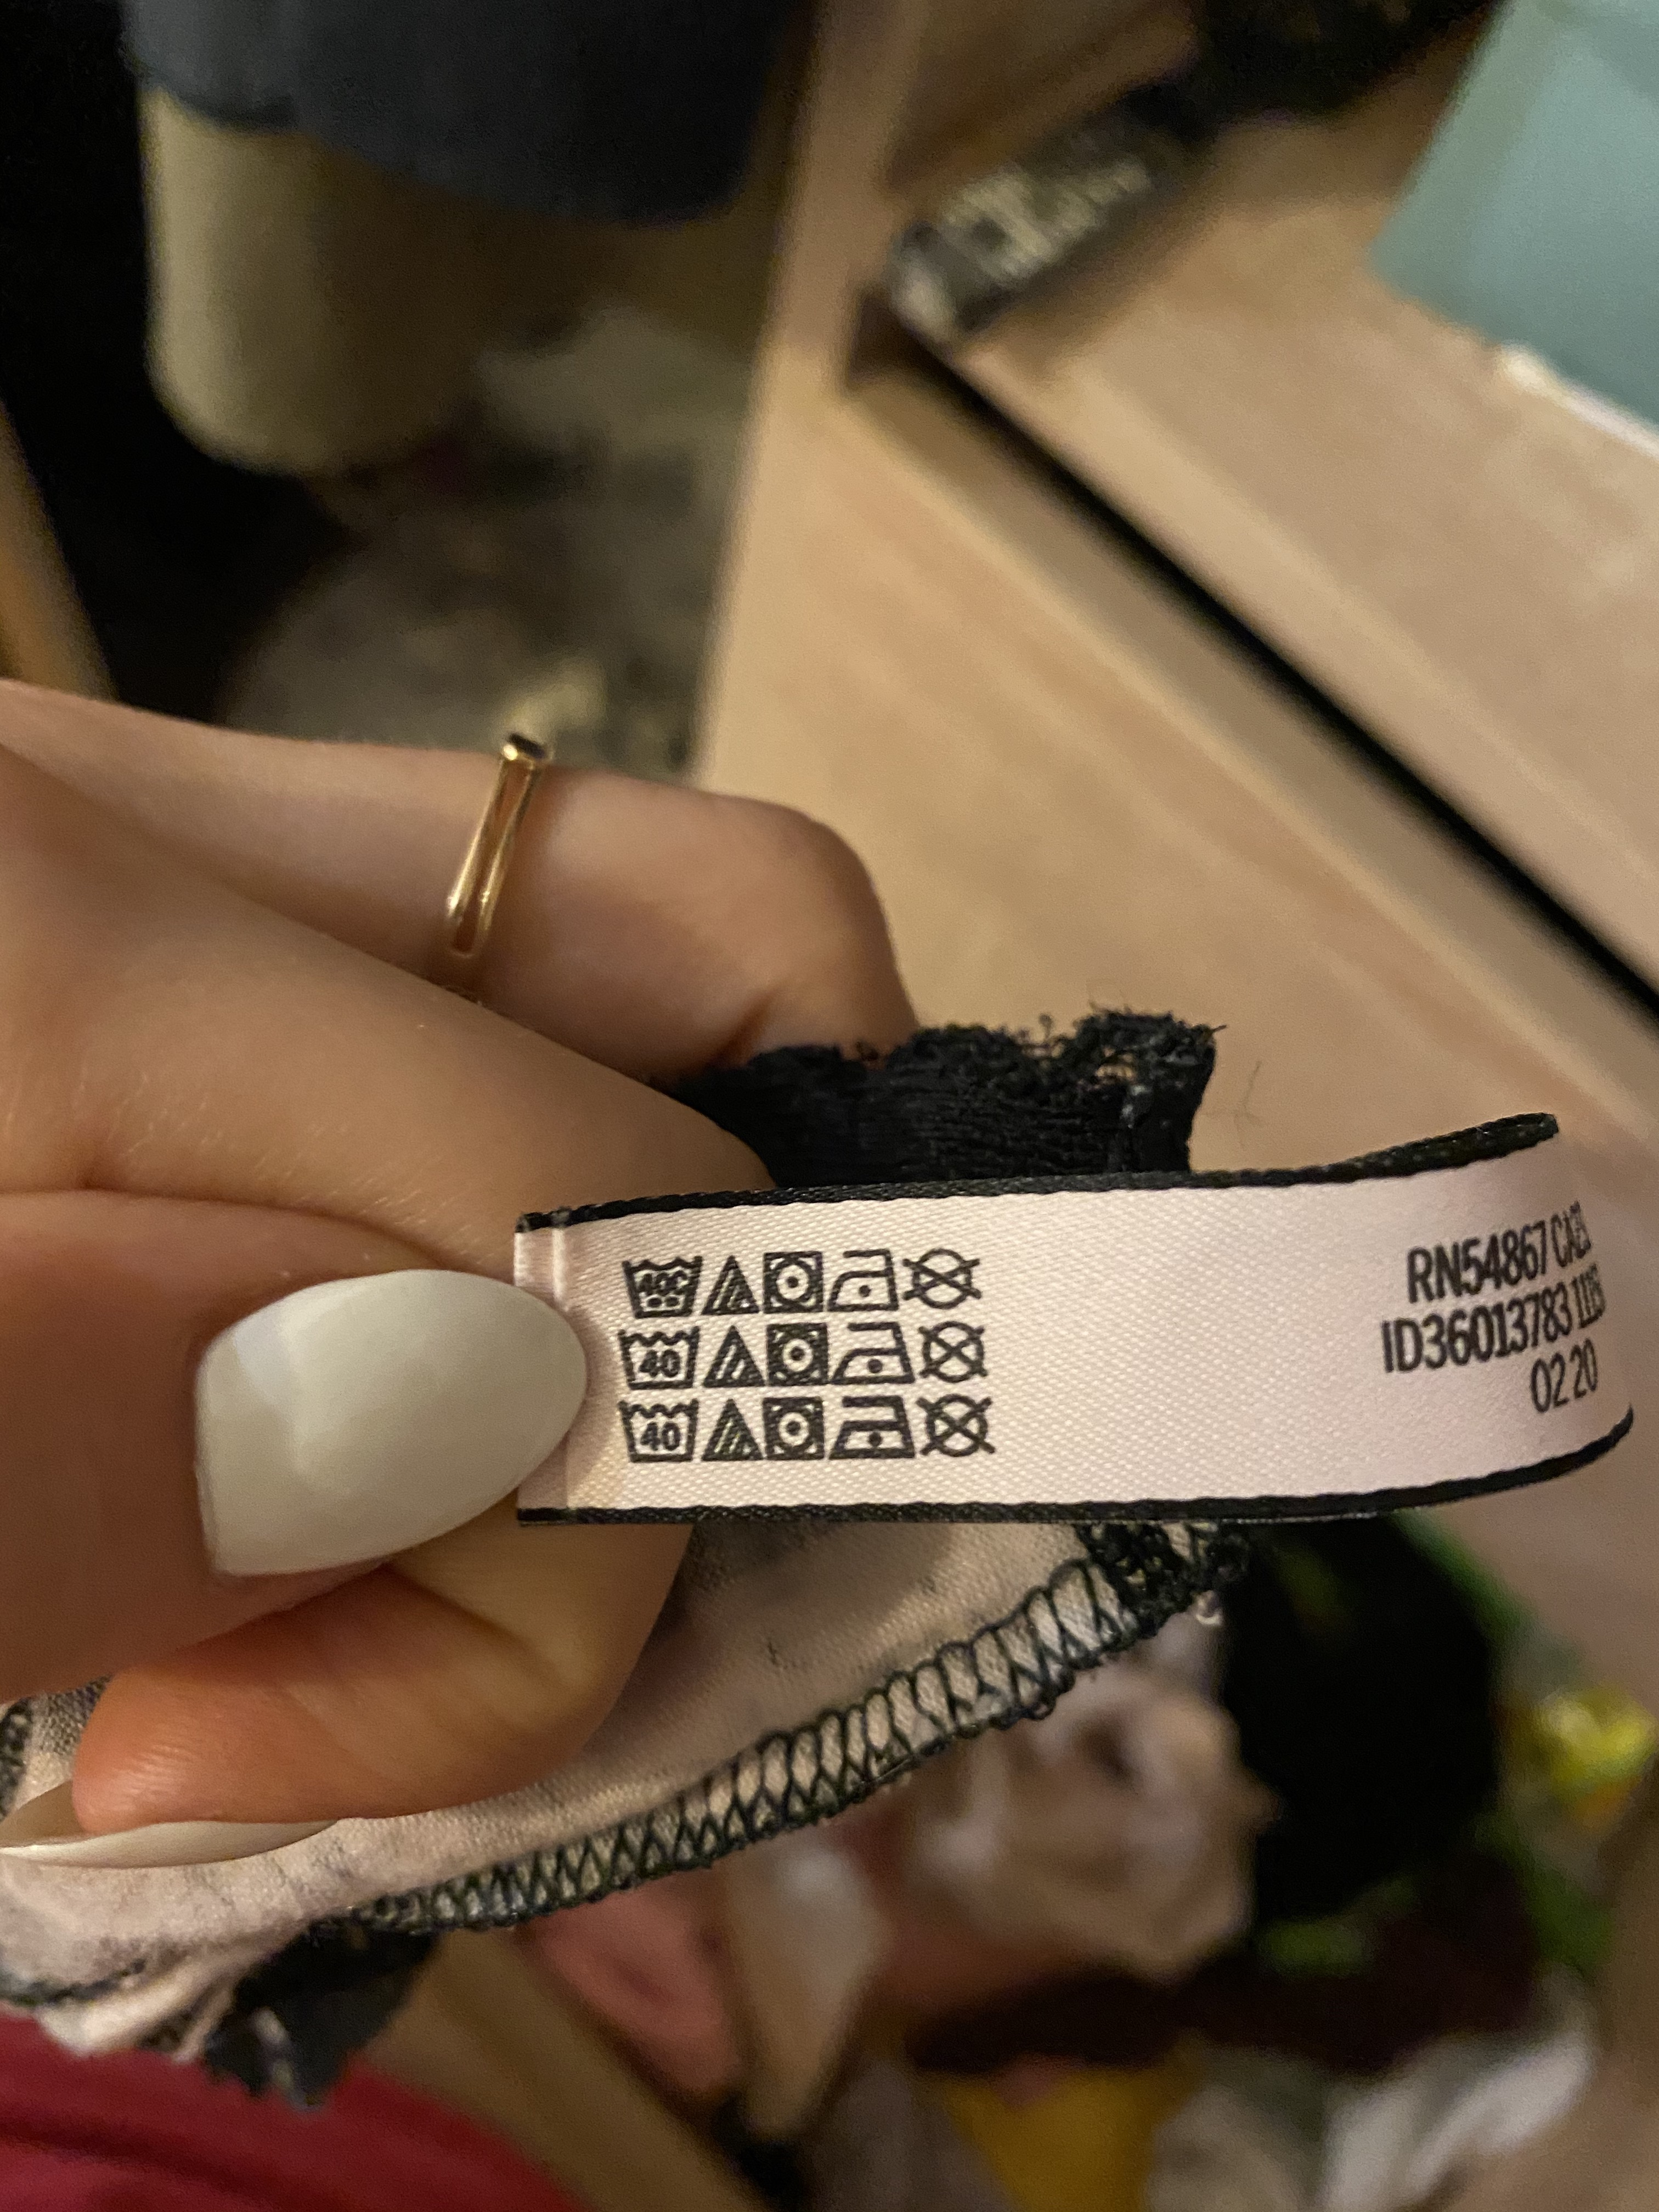do_not_dry_clean: (913, 1386, 999, 1461), (901, 1242, 986, 1310), (913, 1318, 993, 1390)
ironing_at_low_temp: (830, 1317, 917, 1388), (828, 1392, 913, 1463), (828, 1242, 903, 1313)
non_chlorine_bleach_when_needed: (701, 1322, 765, 1392), (701, 1251, 762, 1322), (702, 1393, 762, 1460)
tumble_drying_low_temps: (762, 1393, 828, 1463), (763, 1247, 828, 1317), (769, 1318, 831, 1386)
wash_at_or_below_40: (617, 1251, 706, 1322), (619, 1395, 702, 1470), (617, 1320, 701, 1393)
